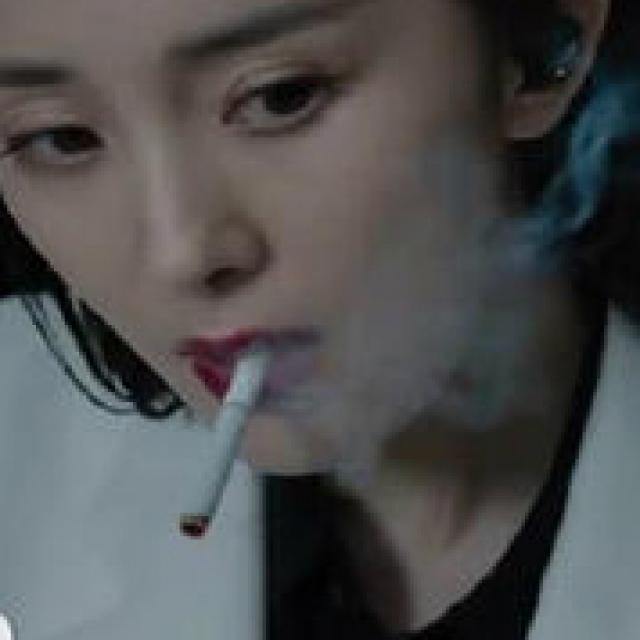smoking: (180, 343, 271, 539)
